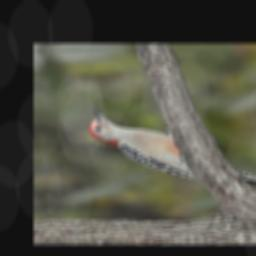Woodpecker: (85, 99, 256, 195)
